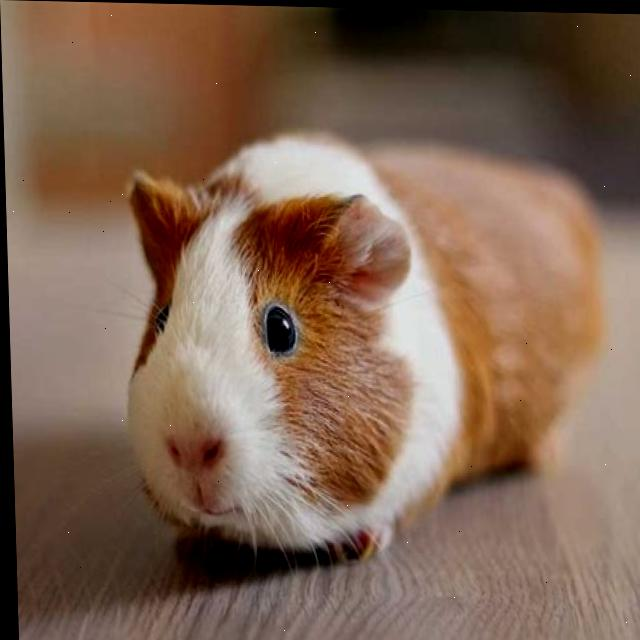guinea pig: (118, 129, 609, 568)
